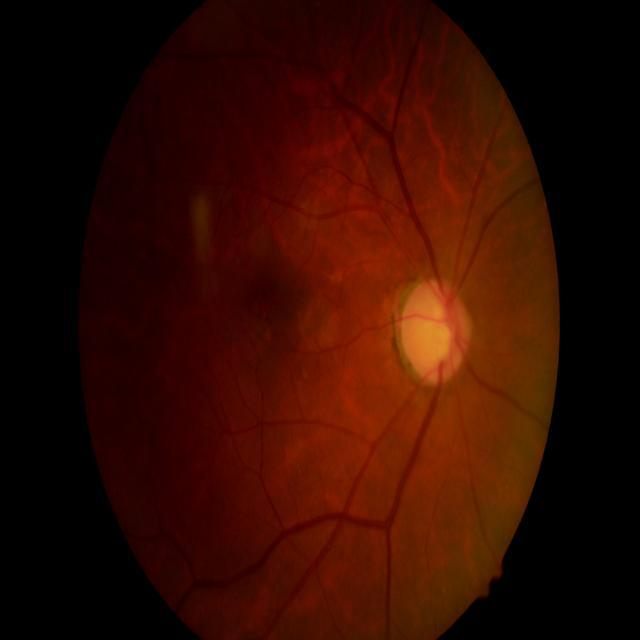cup: (414, 291, 454, 369)
disk: (400, 278, 472, 386)
